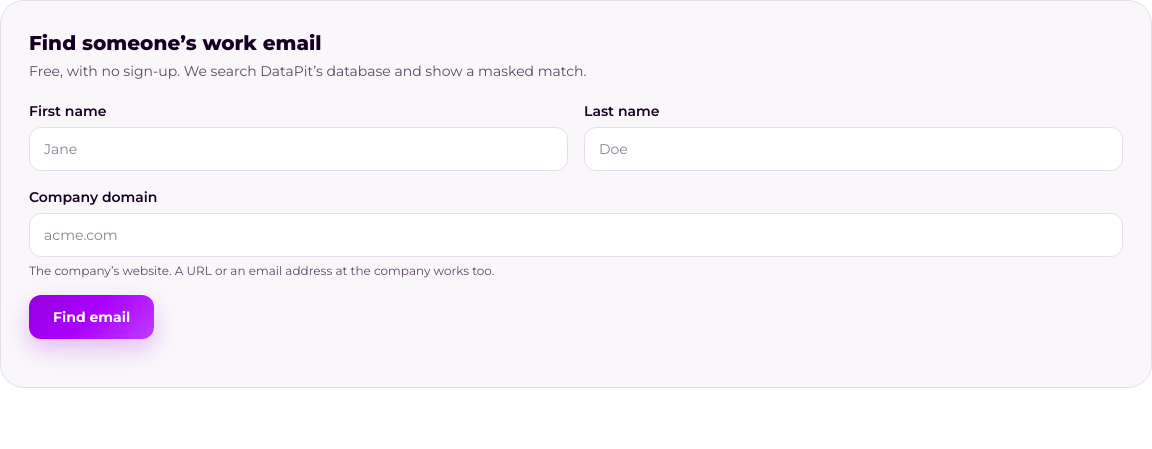
EmailFinderTool › validates every field before searching
Click the button "Find email" at [92, 317], box [29,295,154,339]
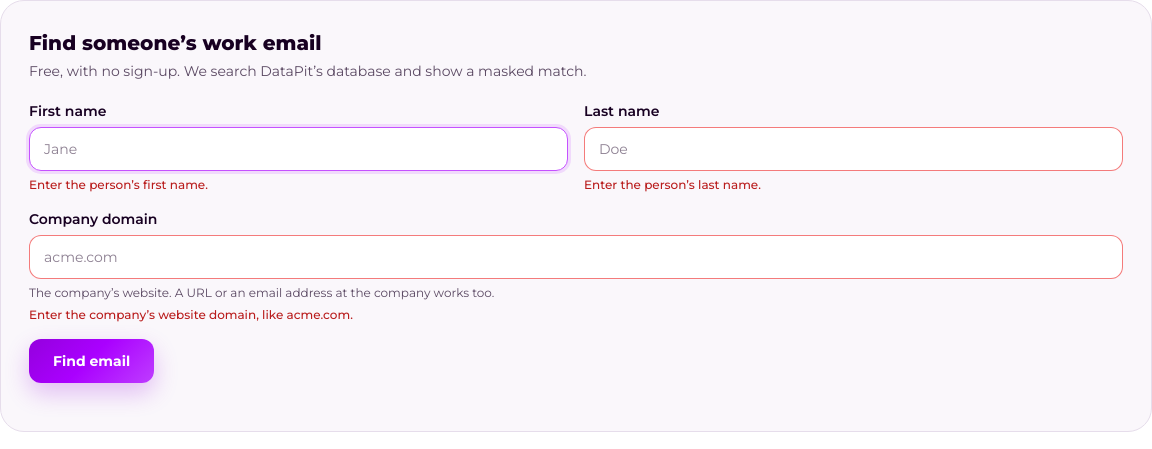
Check: the text "Enter the person’s first name." is shown, box [29,177,208,192]
Check: the text "Enter the person’s last name." is shown, box [584,177,761,192]
Check: the text "Enter the company’s website domain, like acme.com." is shown, box [29,307,353,322]
Type "acme" into the field labelled "Company domain" at [576, 257], box [29,235,1123,279]
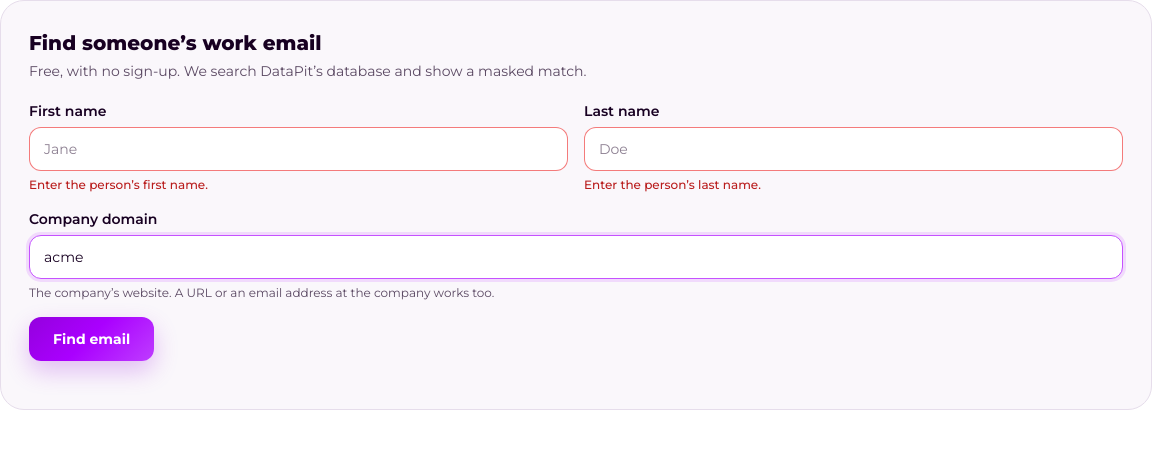
Click the button "Find email" at [92, 339], box [29,317,154,361]
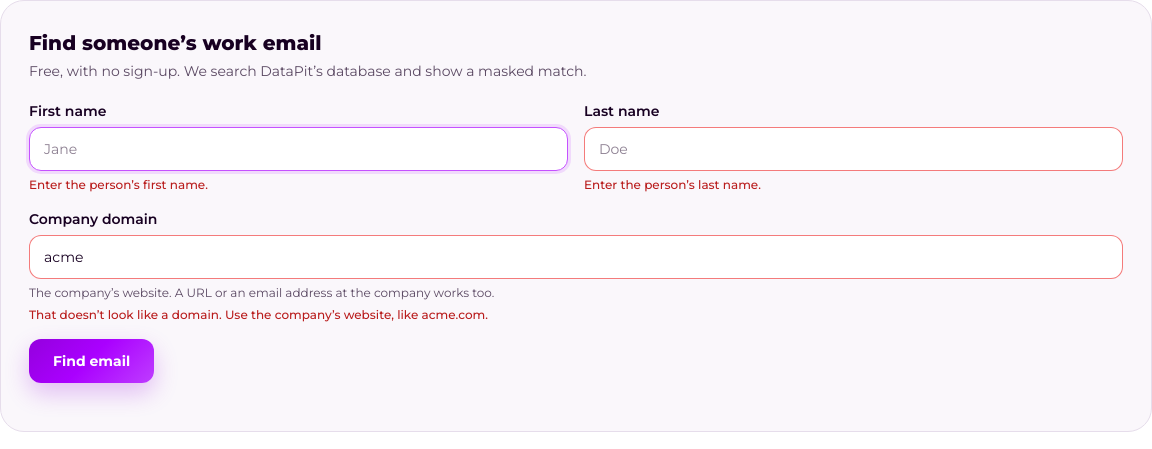
Check: the text "That doesn’t look like a domain" is shown, box [29,307,488,322]
